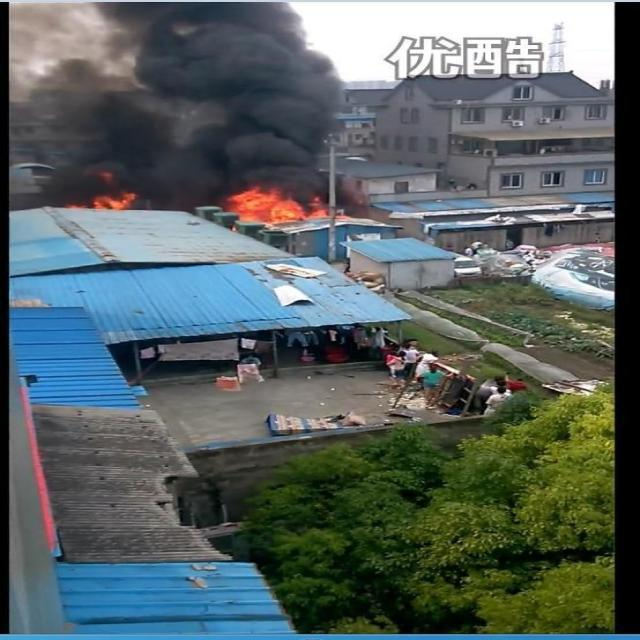Fire: (223, 184, 328, 223), (90, 190, 138, 210)
Smoke: (7, 0, 344, 214)
